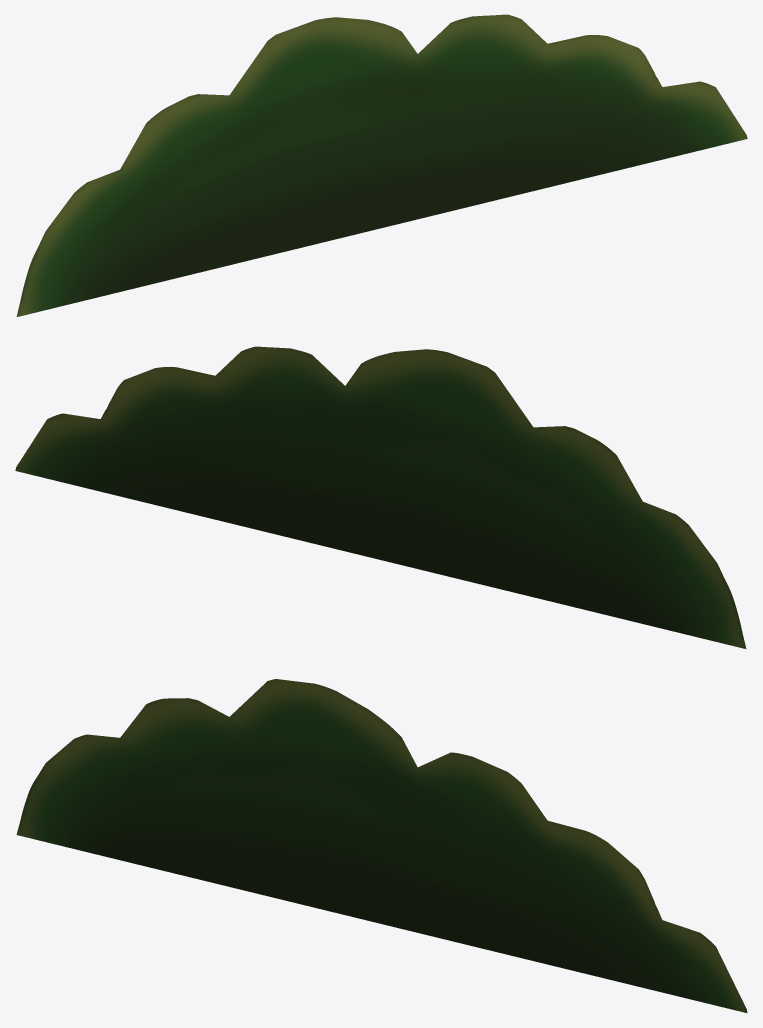
File: rumput.fbx
The picture shows the model from 3 angles, top to bottom: view 1: azimuth 30°, elevation 25°; view 2: azimuth 150°, elevation 25°; view 3: azimuth 330°, elevation 25°; orthographic projection.
Parts seen in each view (by area): view 1: rumput.001; view 2: rumput.001; view 3: rumput.001.
Boxes of the visible parts, x1,y1,x2,y2 form: rumput.001: [16, 14, 747, 316]; rumput.001: [15, 346, 746, 648]; rumput.001: [16, 679, 747, 1013].
Size of the model in its own units: 380 by 111 by 4.86e-06.
1 material, 1 textured.
